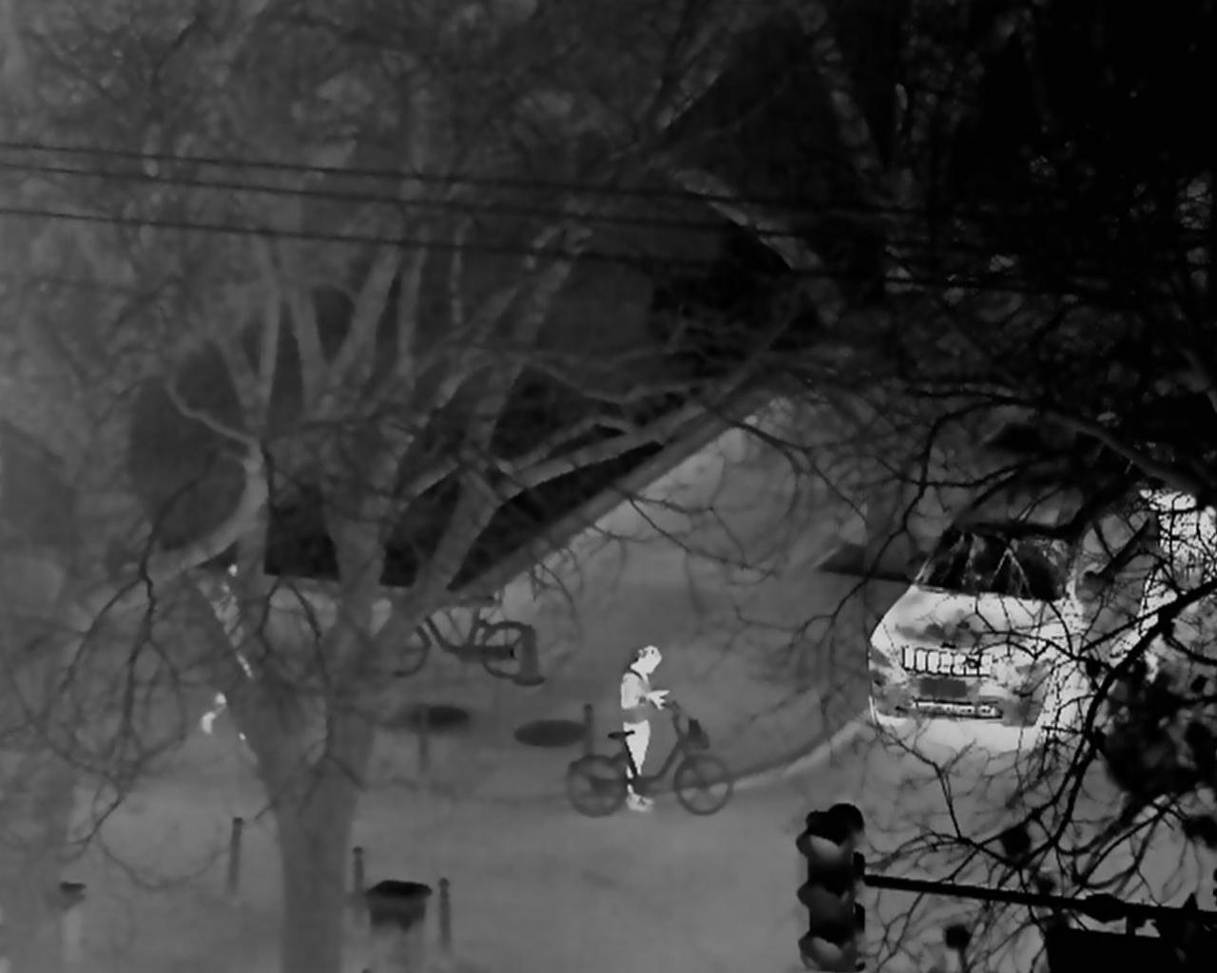person: (618, 644, 668, 813)
